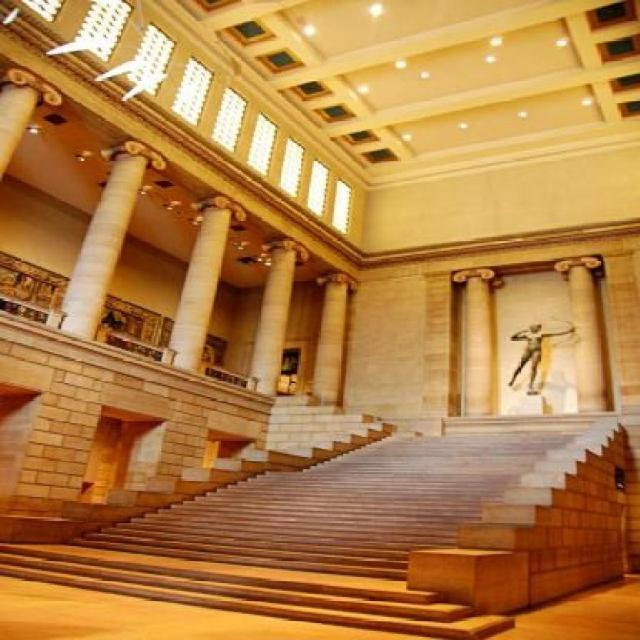stair: (0, 434, 583, 640)
